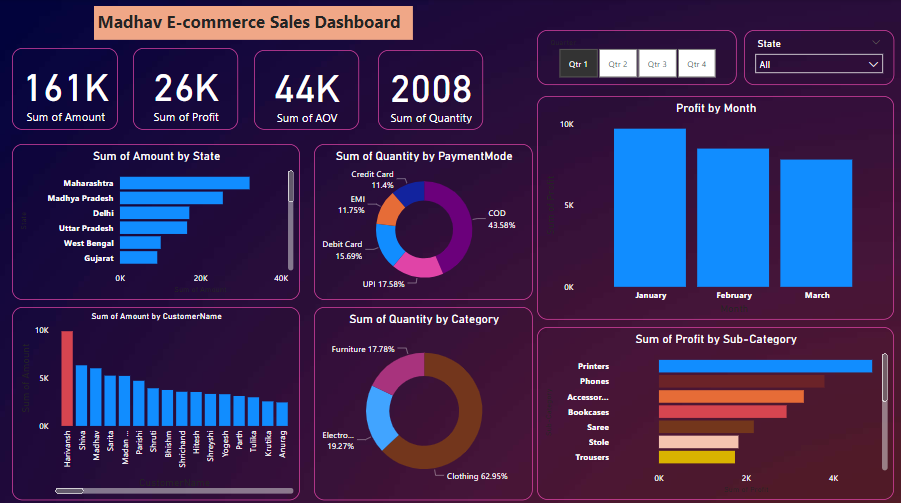

The page's visual inventory and layout, read from the dashboard file:
{"tool":"powerbi","page":{"name":"Page 1","canvas":[1280,720],"ordinal":0},"visuals":[{"type":"textbox","box":[134.6,9.9,452.1,48.2],"z":0},{"type":"columnChart","title":" Profit by Month","fields":{"Category":["Orders.Order Date.Variation.Date Hierarchy.Month"],"Y":["Details.Profit"]},"box":[762.5,137.5,506,317.5],"z":1000},{"type":"barChart","fields":{"Category":["Details.Sub-Category"],"Y":["Details.Profit"]},"box":[762.5,464.9,506,245.2],"z":2000},{"type":"donutChart","fields":{"Y":["Details.Quantity"],"Category":["Details.Category"]},"box":[446.5,436.5,310.4,273.5],"z":3000},{"type":"donutChart","fields":{"Y":["Details.Quantity"],"Category":["Details.PaymentMode"]},"box":[446.5,205.5,310.4,221.1],"z":4000},{"type":"card","fields":{"Values":["Details.Amount"]},"box":[18.4,69.4,150.2,116.2],"z":5000},{"type":"card","fields":{"Values":["Details.Profit"]},"box":[189.9,69.4,148.8,116.2],"z":6000},{"type":"card","fields":{"Values":["Details.Quantity"]},"box":[537.2,72.3,148.8,113.4],"z":7000},{"type":"card","fields":{"Values":["Details.AOV"]},"box":[361.4,72.3,148.8,113.4],"z":8000},{"type":"barChart","fields":{"Category":["Orders.State"],"Y":["Details.Amount"]},"box":[18.4,205.5,408.2,221.1],"z":9000},{"type":"columnChart","fields":{"Category":["Orders.CustomerName"],"Y":["Details.Amount"]},"box":[18.4,436.5,408.2,273.5],"z":10000},{"type":"slicer","fields":{"Values":["Orders.Order Date.Variation.Date Hierarchy.Quarter"]},"box":[762.5,43.9,283.5,78],"z":11000},{"type":"slicer","fields":{"Values":["Orders.State"]},"box":[1055.9,43.9,212.6,78],"z":11001}]}

Visuals, with their boxes in screenshot pixels (x1, y1, x2, y2), scaled from the page's 1280x720 canvas onto the 901x503 screenshot:
textbox: 95,7,413,41
" Profit by Month" columnChart: 537,96,893,318
barChart - Details.Sub-Category x Details.Profit: 537,325,893,496
donutChart - Details.Quantity x Details.Category: 314,305,533,496
donutChart - Details.Quantity x Details.PaymentMode: 314,144,533,298
card - Details.Amount: 13,48,119,130
card - Details.Profit: 134,48,238,130
card - Details.Quantity: 378,51,483,130
card - Details.AOV: 254,51,359,130
barChart - Orders.State x Details.Amount: 13,144,300,298
columnChart - Orders.CustomerName x Details.Amount: 13,305,300,496
slicer - Orders.Order Date.Variation.Date Hierarchy.Quarter: 537,31,736,85
slicer - Orders.State: 743,31,893,85
